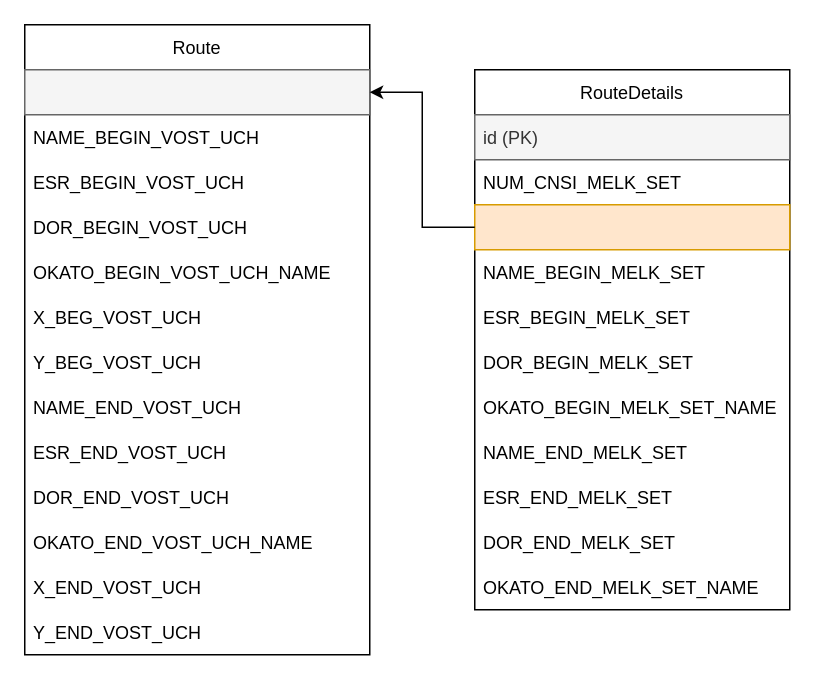
The diagram is 815 pixels wide and 680 high, and some of its shapes have lost their labels. The shapes that lost their labels are listed below. From the top down, each one's centre as x and y in pixels, then its label:
At point 196,91: "ID_UCH_VOST_POL (PK)".
At point 631,226: "route_id (FK)".
